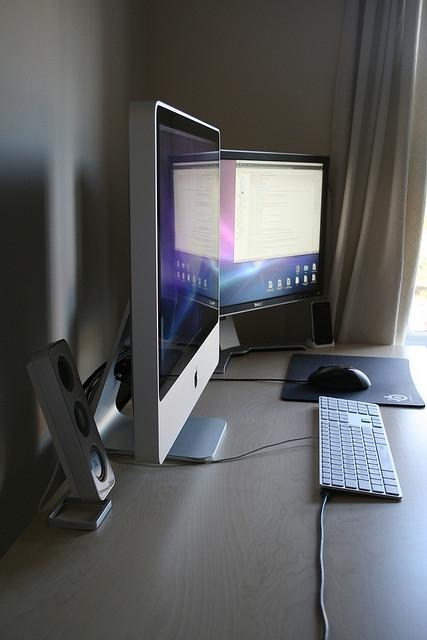apple: (194, 366, 198, 388)
